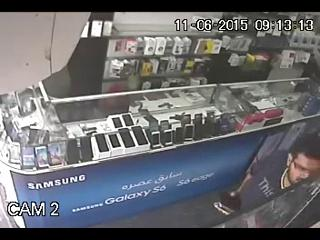Normal: (218, 128, 320, 218)
